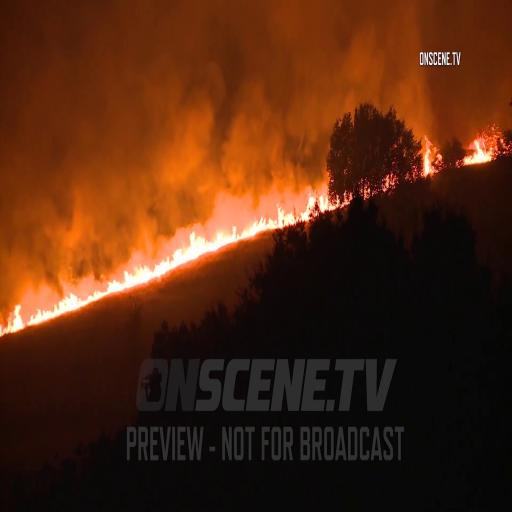fire: (0, 291, 72, 346), (252, 201, 298, 238), (71, 278, 108, 318), (216, 216, 252, 250), (463, 126, 497, 160), (175, 232, 211, 264), (115, 258, 149, 288)
smoke: (0, 0, 211, 195)
